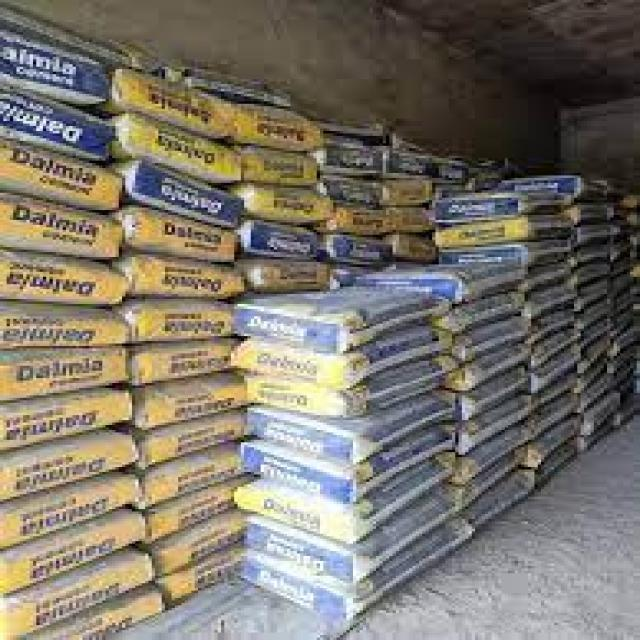gunny_bag: (236, 524, 466, 621), (237, 453, 454, 548), (248, 491, 453, 585), (241, 424, 453, 504), (242, 388, 454, 464), (228, 323, 444, 390), (250, 353, 460, 421), (240, 285, 434, 352), (7, 551, 158, 637), (1, 512, 151, 594), (0, 472, 146, 547), (0, 430, 139, 501), (1, 81, 118, 159), (0, 139, 122, 208), (126, 110, 238, 185), (5, 195, 125, 259), (0, 251, 130, 310), (0, 32, 110, 101), (374, 256, 528, 305), (9, 389, 132, 450), (0, 344, 131, 401), (118, 70, 230, 130), (140, 165, 242, 224), (146, 450, 246, 508), (146, 380, 249, 431), (143, 415, 244, 467), (131, 210, 236, 258), (160, 516, 244, 573), (456, 393, 532, 456), (1, 305, 126, 343), (461, 468, 538, 529), (132, 339, 234, 384), (160, 551, 244, 604), (440, 215, 572, 248), (134, 304, 238, 344), (238, 102, 326, 146), (456, 314, 531, 365), (434, 194, 567, 221), (142, 253, 238, 290), (461, 430, 518, 488), (462, 343, 530, 391), (466, 370, 527, 421), (246, 220, 321, 259), (527, 412, 579, 467), (454, 293, 527, 332), (248, 147, 318, 187), (253, 187, 335, 220), (323, 173, 387, 205), (254, 263, 331, 289), (524, 284, 577, 321), (536, 328, 580, 371), (532, 349, 579, 388), (330, 236, 391, 266), (336, 205, 392, 233), (323, 142, 376, 171), (583, 393, 621, 432), (570, 244, 616, 275), (576, 294, 614, 327), (397, 231, 437, 257)
